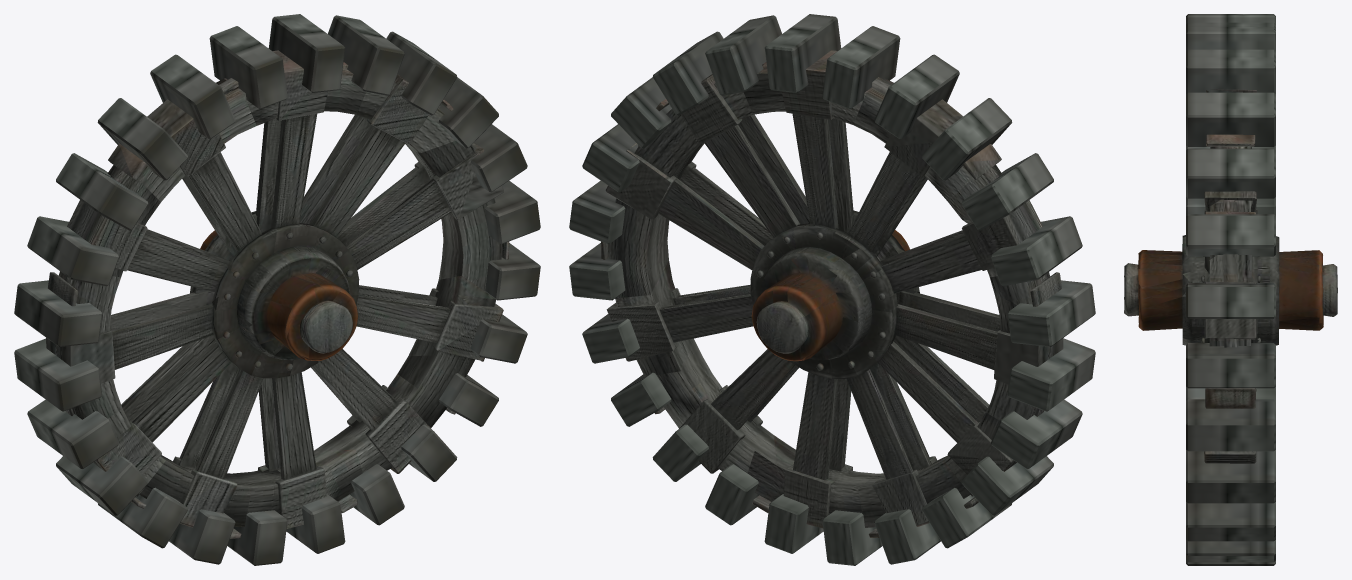
File: disli.glb
3 views of the same model, side by side, from view 1: azimuth 30°, elevation 25°; view 2: azimuth 150°, elevation 25°; view 3: azimuth 270°, elevation 25° (orthographic).
Parts seen in each view (by area): view 1: Mesh_0, Wooden gear tooth 23, Wooden gear tooth 00, Wooden gear tooth 17, Wooden gear tooth 18, Wooden gear tooth 22, Wooden gear tooth 19, Wooden gear tooth 16, Wooden gear tooth 01, Wooden gear tooth 21, Wooden gear tooth 20, Wooden gear tooth 15 (+13 smaller); view 2: Mesh_0, Wooden gear tooth 23, Wooden gear tooth 00, Wooden gear tooth 17, Wooden gear tooth 18, Wooden gear tooth 22, Wooden gear tooth 19, Wooden gear tooth 01, Wooden gear tooth 16, Wooden gear tooth 21, Wooden gear tooth 20, Wooden gear tooth 15 (+13 smaller); view 3: Mesh_0, Wooden gear tooth 01, Wooden gear tooth 06, Wooden gear tooth 02, Wooden gear tooth 07, Wooden gear tooth 05, Wooden gear tooth 00, Wooden gear tooth 03, Wooden gear tooth 08, Wooden gear tooth 04, Wooden gear tooth 23, Wooden gear tooth 09 (+4 smaller).
Part boxes in pixels (x1,y1,x2,y2): Mesh_0: [46, 50, 509, 538]; Wooden gear tooth 23: [209, 26, 287, 109]; Wooden gear tooth 00: [268, 14, 345, 92]; Wooden gear tooth 17: [14, 338, 102, 411]; Wooden gear tooth 18: [14, 280, 102, 346]; Wooden gear tooth 22: [150, 54, 235, 138]; Wooden gear tooth 19: [27, 216, 118, 286]; Wooden gear tooth 16: [27, 399, 118, 468]; Wooden gear tooth 01: [328, 15, 404, 95]; Wooden gear tooth 21: [97, 98, 187, 180]; Wooden gear tooth 20: [56, 153, 148, 230]; Wooden gear tooth 15: [56, 456, 148, 515]; Mesh_0: [601, 50, 1063, 537]; Wooden gear tooth 23: [822, 26, 900, 109]; Wooden gear tooth 00: [764, 14, 841, 92]; Wooden gear tooth 17: [1007, 338, 1095, 411]; Wooden gear tooth 18: [1007, 280, 1095, 346]; Wooden gear tooth 22: [874, 54, 959, 138]; Wooden gear tooth 19: [991, 216, 1082, 286]; Wooden gear tooth 01: [705, 15, 781, 95]; Wooden gear tooth 16: [991, 399, 1082, 468]; Wooden gear tooth 21: [922, 98, 1012, 180]; Wooden gear tooth 20: [961, 153, 1053, 230]; Wooden gear tooth 15: [961, 456, 1053, 515]; Mesh_0: [1124, 89, 1337, 463]; Wooden gear tooth 01: [1186, 92, 1275, 146]; Wooden gear tooth 06: [1186, 399, 1275, 451]; Wooden gear tooth 02: [1186, 148, 1275, 198]; Wooden gear tooth 07: [1186, 450, 1275, 503]; Wooden gear tooth 05: [1186, 343, 1275, 388]; Wooden gear tooth 00: [1186, 49, 1275, 93]; Wooden gear tooth 03: [1186, 214, 1275, 256]; Wooden gear tooth 08: [1186, 502, 1275, 541]; Wooden gear tooth 04: [1186, 283, 1275, 318]; Wooden gear tooth 23: [1186, 22, 1275, 50]; Wooden gear tooth 09: [1186, 540, 1275, 562].
Bounding box in the file's own units: 1.1 × 1.1 × 0.4285.
Materials: 1 (1 with a texture image).
